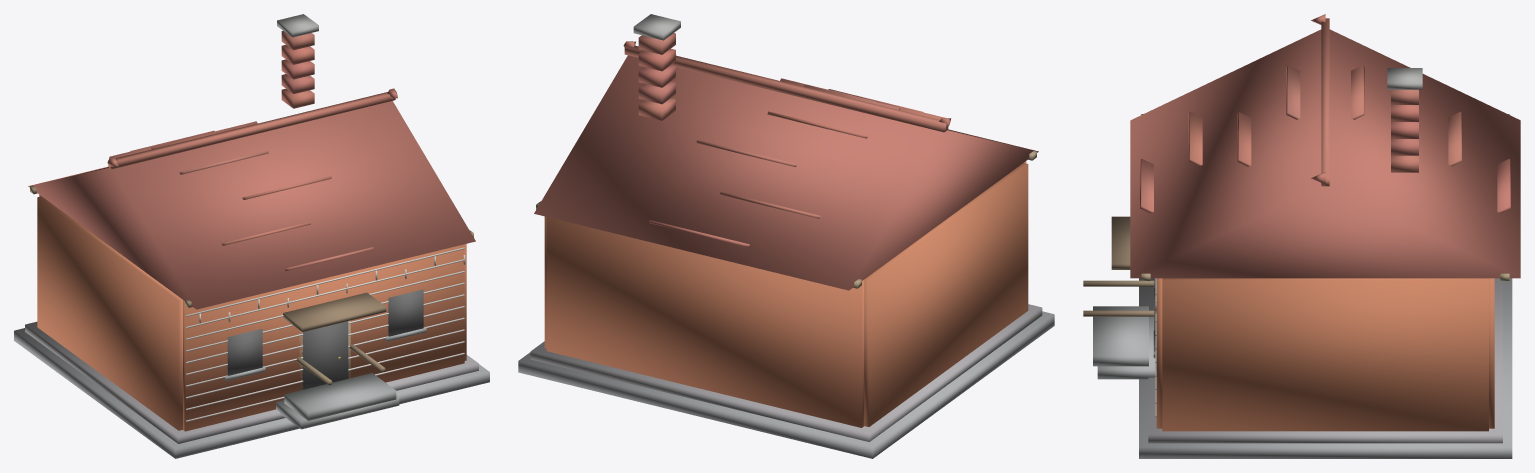
Rendered from building_upgrade_l3.glb.
The picture shows the model from 3 angles, left to right: view 1: azimuth 30°, elevation 25°; view 2: azimuth 150°, elevation 25°; view 3: azimuth 270°, elevation 25°; orthographic projection. The views are drawn at different scales.
Visible parts, largest first — view 1: roof_body, front_wall, side_-1, foundation0, foundation1, step1, ridge, open0, porch_canopy, open2, open1, step0 (+9 smaller); view 2: roof_body, back, side_-1, foundation0, foundation1, ridge, chim_cap, chim_brick1, chim_brick3, chim_brick0, chim_brick2, chim_brick4; view 3: roof_body, side_1, foundation0, foundation1, step1, ridge, step0, porch_canopy, front_wall, back, chim_cap, tile_1_1 (+13 smaller).
Part boxes in pixels (x1,y1,x2,y2): roof_body: (28, 101, 475, 309); front_wall: (183, 244, 464, 431); side_-1: (37, 196, 182, 430); foundation0: (14, 328, 489, 458); foundation1: (25, 321, 478, 443); step1: (284, 373, 396, 420); ridge: (108, 92, 395, 169); open0: (302, 321, 348, 389); porch_canopy: (283, 292, 386, 332); open2: (388, 289, 423, 336); open1: (227, 329, 262, 375); step0: (276, 395, 399, 429); roof_body: (534, 55, 1038, 290); back: (546, 217, 864, 427); side_-1: (864, 163, 1028, 426); foundation0: (518, 311, 1054, 458); foundation1: (530, 304, 1042, 441); ridge: (624, 45, 948, 132); chim_cap: (633, 14, 680, 40); chim_brick1: (638, 81, 675, 104); chim_brick3: (638, 48, 675, 71); chim_brick0: (638, 98, 675, 120); chim_brick2: (638, 65, 675, 87); chim_brick4: (638, 33, 675, 54); roof_body: (1130, 29, 1520, 278); side_1: (1162, 278, 1488, 431); foundation0: (1139, 278, 1512, 458); foundation1: (1148, 278, 1502, 443); step1: (1093, 306, 1148, 366); ridge: (1321, 18, 1329, 186); step0: (1097, 316, 1155, 379); porch_canopy: (1111, 216, 1130, 269); front_wall: (1156, 278, 1162, 428); back: (1489, 278, 1494, 428); chim_cap: (1387, 68, 1422, 89); tile_1_1: (1448, 111, 1462, 166).
Size of the model in its own units: 4.5 by 4.02 by 4.68.
